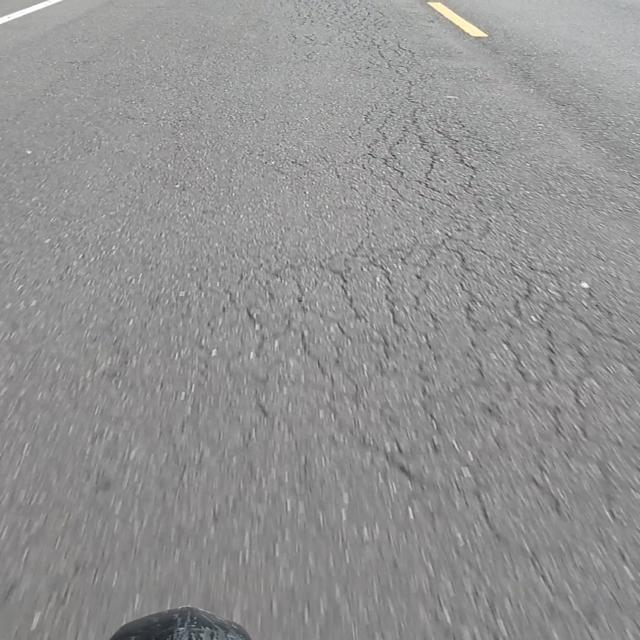Retak Buaya: (228, 239, 640, 533)
